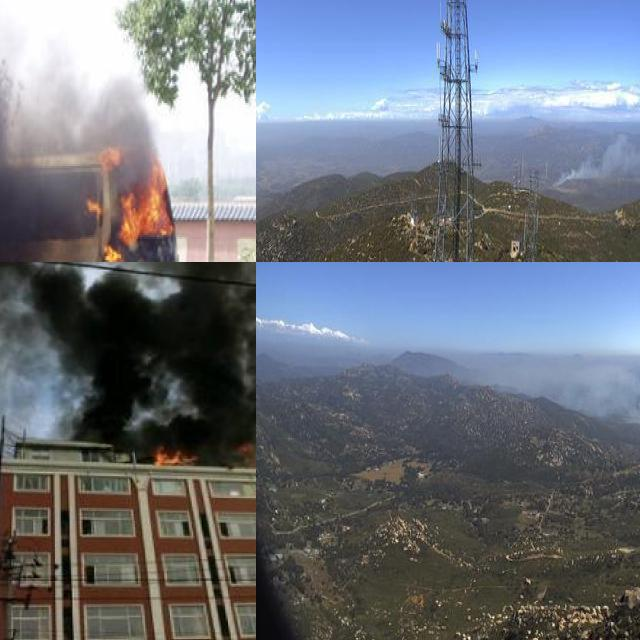fire: (87, 145, 186, 262), (154, 425, 254, 472)
smoke: (0, 262, 256, 463), (463, 348, 640, 432), (58, 76, 152, 183), (547, 126, 640, 184)
